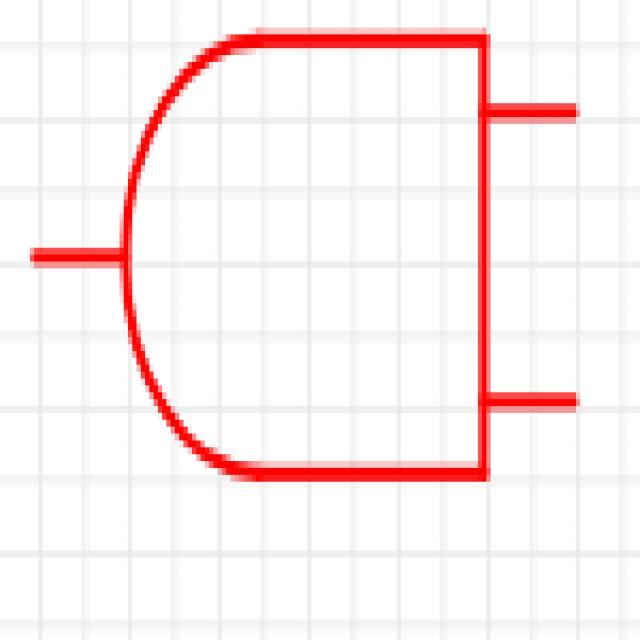and: (20, 10, 603, 511)
